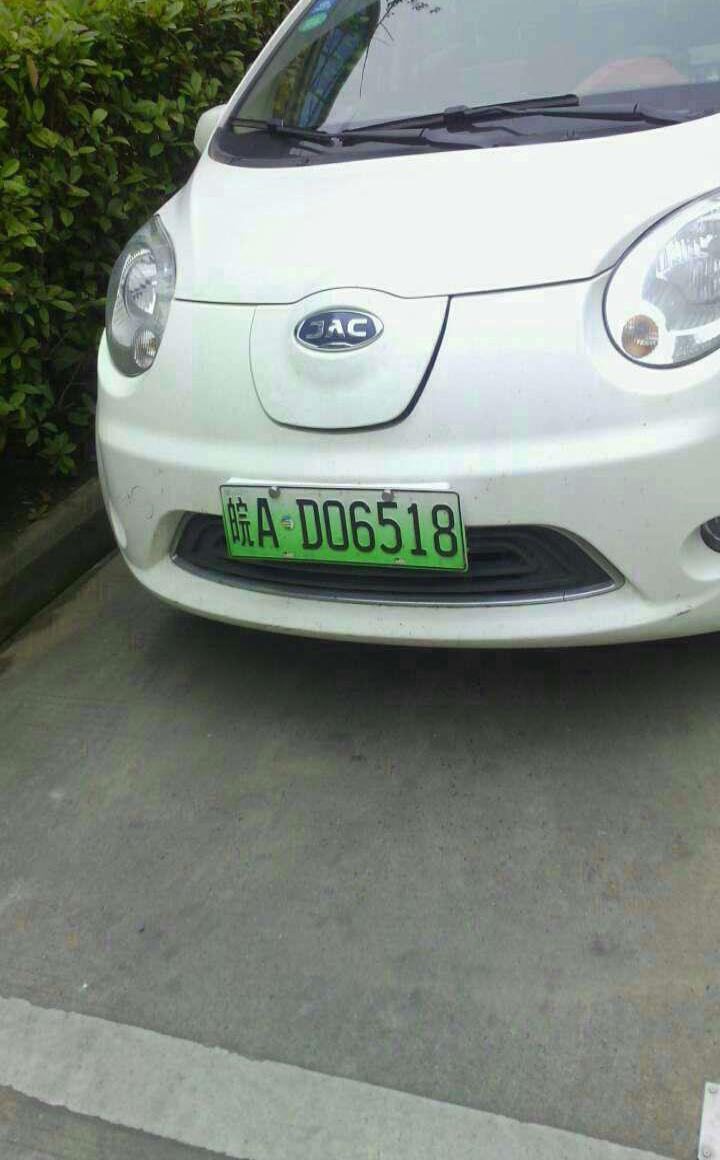car_id: (219, 481, 469, 570)
